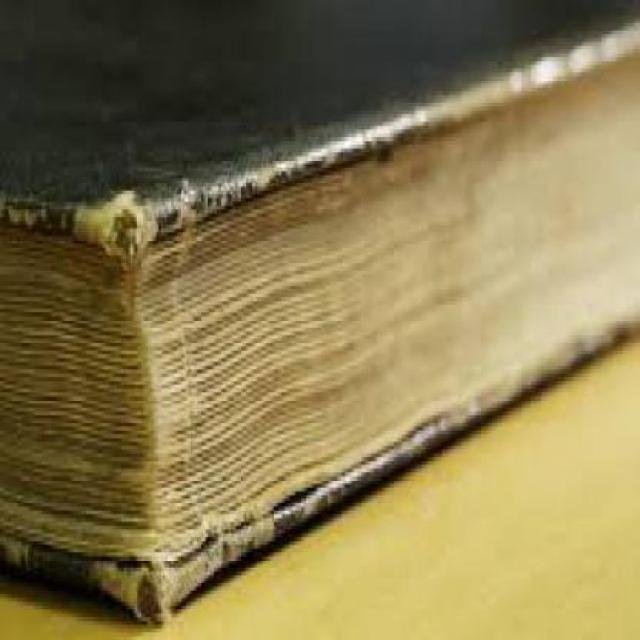PAPER: (0, 0, 638, 606)
